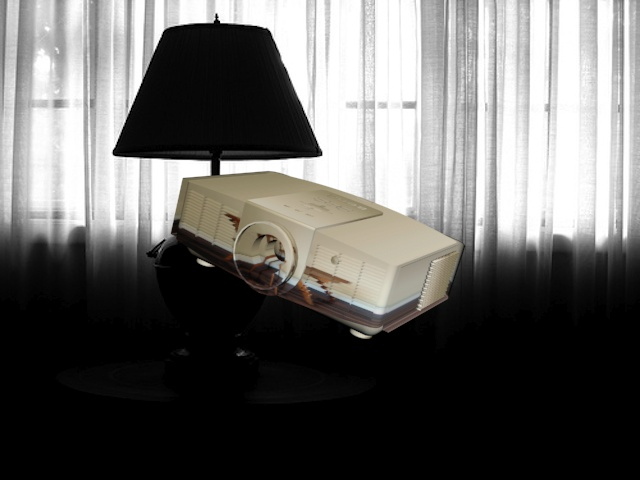projector: (161, 160, 472, 353)
